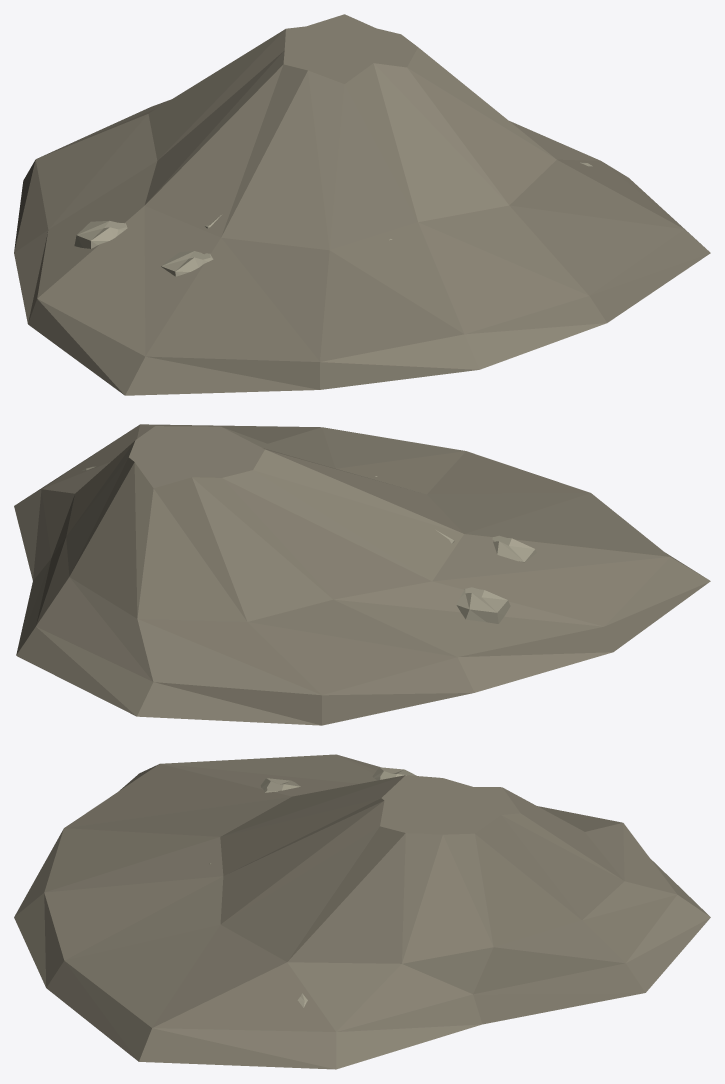
Rendered from scree-slope.glb.
3 views of the same model, one above another, from view 1: azimuth 30°, elevation 25°; view 2: azimuth 150°, elevation 25°; view 3: azimuth 270°, elevation 25° (orthographic).
Parts seen in each view (by area): view 1: scree-slope; view 2: scree-slope; view 3: scree-slope.
Boxes of the visible parts, bbox=[...] form: scree-slope: bbox=[14, 14, 710, 395]; scree-slope: bbox=[14, 424, 710, 725]; scree-slope: bbox=[14, 754, 710, 1069].
Size of the model in its own units: 4.27 by 1.04 by 4.25.
